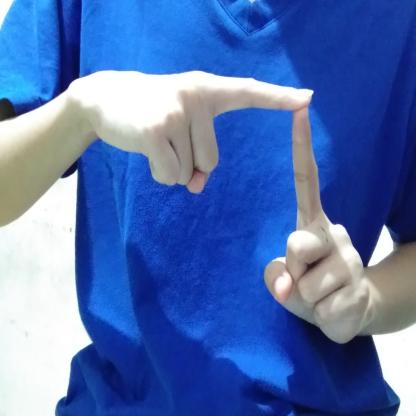when: (70, 64, 371, 351)
